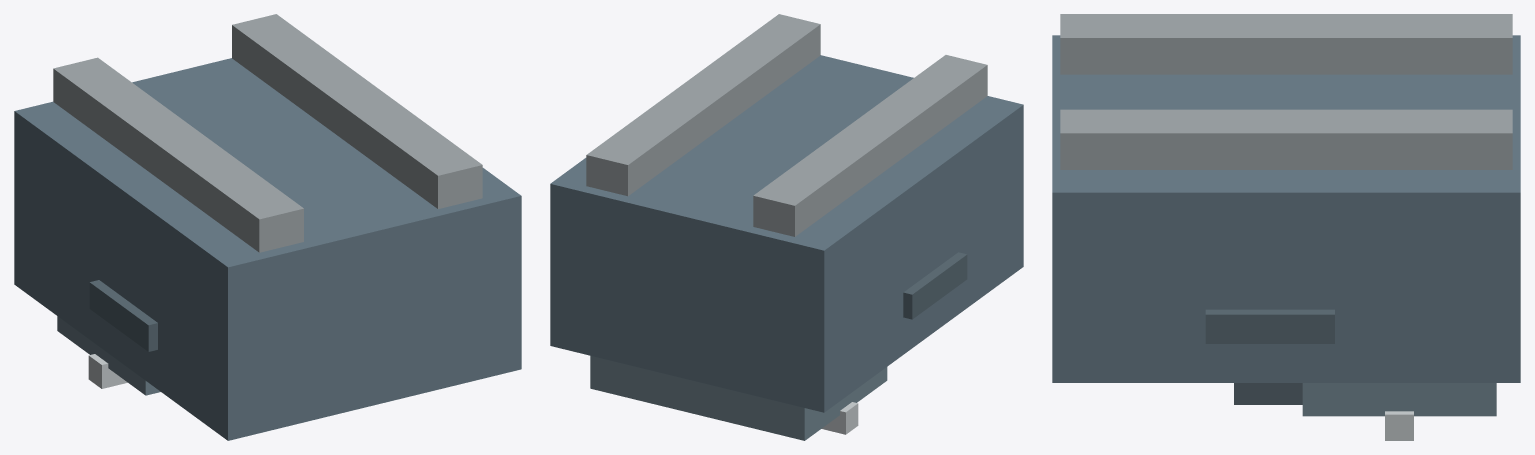
File: backpack.glb
3 views of the same model, side by side, from view 1: azimuth 30°, elevation 25°; view 2: azimuth 150°, elevation 25°; view 3: azimuth 270°, elevation 25° (orthographic). The views are drawn at different scales.
Visible parts, largest first — view 1: backpack_0, backpack_6, backpack_7, backpack_4, backpack_1, backpack_2; view 2: backpack_0, backpack_7, backpack_6, backpack_1, backpack_4, backpack_2; view 3: backpack_0, backpack_6, backpack_7, backpack_1, backpack_5, backpack_3, backpack_2.
Boxes of the visible parts, bbox=[...] form: backpack_0: bbox=[14, 58, 521, 440]; backpack_6: bbox=[53, 57, 303, 252]; backpack_7: bbox=[232, 14, 482, 208]; backpack_4: bbox=[89, 280, 157, 351]; backpack_1: bbox=[57, 316, 160, 395]; backpack_2: bbox=[88, 354, 127, 388]; backpack_0: bbox=[550, 55, 1023, 412]; backpack_7: bbox=[586, 14, 820, 196]; backpack_6: bbox=[753, 55, 987, 236]; backpack_1: bbox=[590, 356, 887, 440]; backpack_4: bbox=[903, 252, 967, 319]; backpack_2: bbox=[821, 402, 858, 434]; backpack_0: bbox=[1052, 35, 1520, 382]; backpack_6: bbox=[1060, 14, 1512, 74]; backpack_7: bbox=[1060, 109, 1512, 169]; backpack_1: bbox=[1302, 383, 1496, 416]; backpack_5: bbox=[1205, 309, 1334, 343]; backpack_3: bbox=[1234, 383, 1302, 404]; backpack_2: bbox=[1385, 411, 1413, 440].
Size of the model in its own units: 0.245 by 0.2075 by 0.29.
